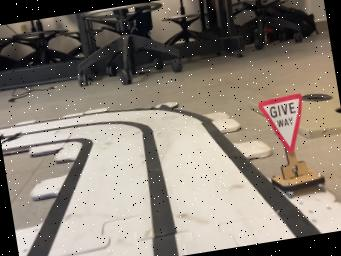give_way: (257, 93, 324, 197), (257, 93, 324, 197), (257, 93, 324, 197), (257, 93, 324, 197), (257, 93, 324, 197), (257, 93, 324, 197)
street: (13, 107, 320, 256), (13, 107, 320, 256), (13, 107, 320, 256), (13, 107, 320, 256), (13, 107, 320, 256), (13, 107, 320, 256)
